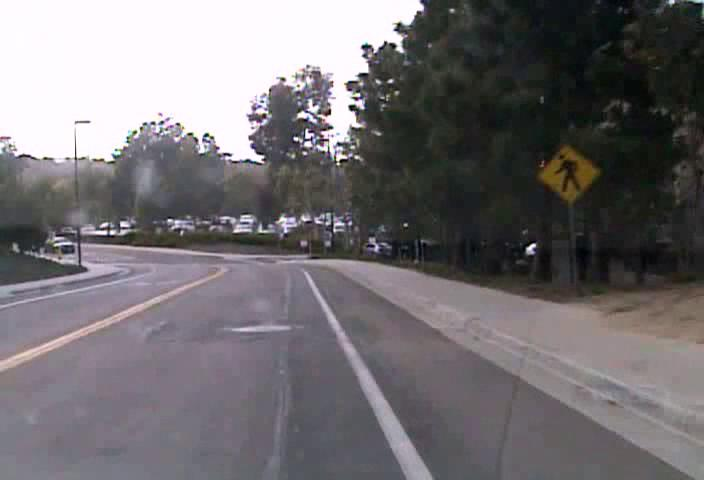pedestrianCrossing: (536, 142, 601, 204)
